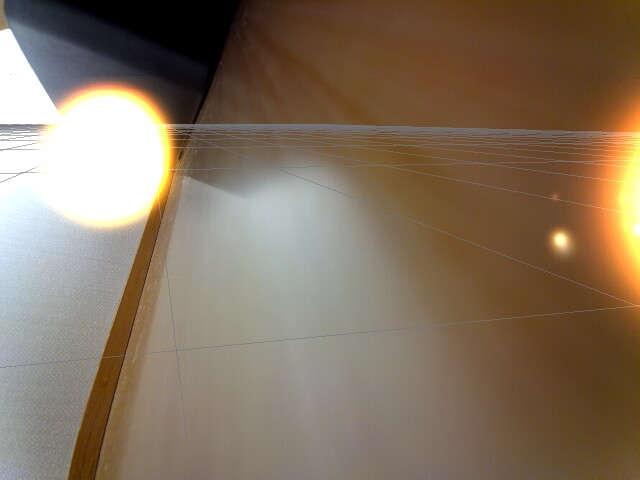firebig: (22, 81, 186, 244)
